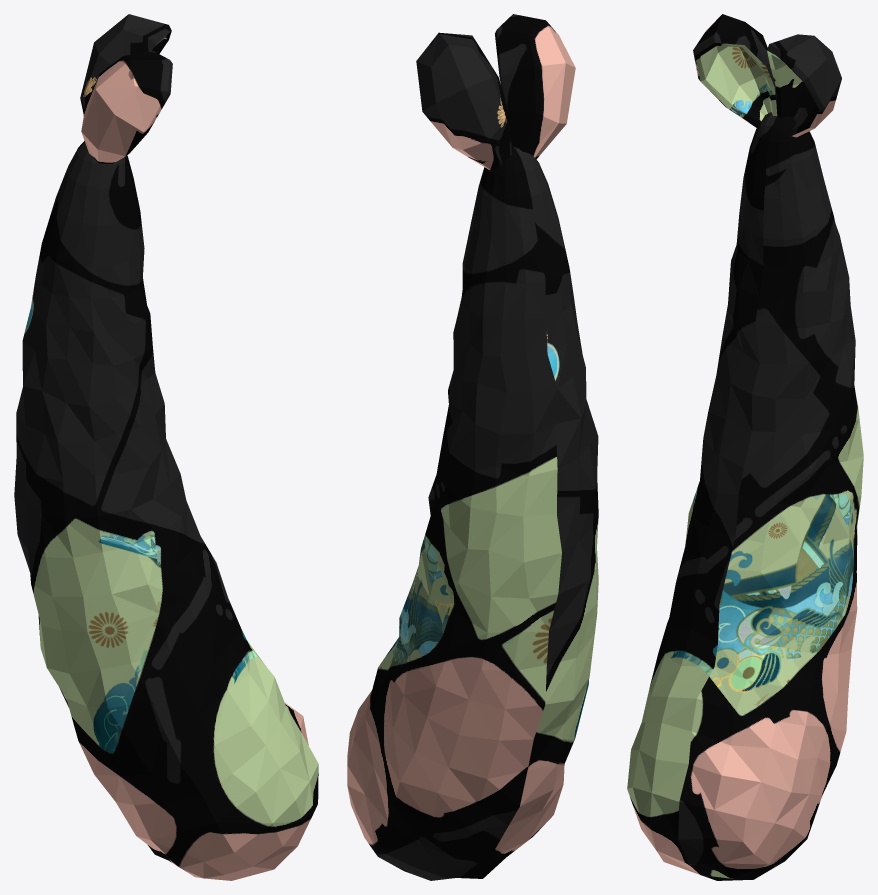
File: Tempura.fbx
The picture shows the model from 3 angles, left to right: view 1: azimuth 30°, elevation 25°; view 2: azimuth 150°, elevation 25°; view 3: azimuth 270°, elevation 25°; orthographic projection. The views are drawn at different scales.
Parts seen in each view (by area): view 1: Tempura2; view 2: Tempura2; view 3: Tempura2.
Part boxes in pixels (x1=…): Tempura2: x1=14, y1=14, x2=318, y2=880; Tempura2: x1=347, y1=14, x2=598, y2=880; Tempura2: x1=627, y1=14, x2=863, y2=880.
Size of the model in its own units: 45.66 by 147 by 38.62.
